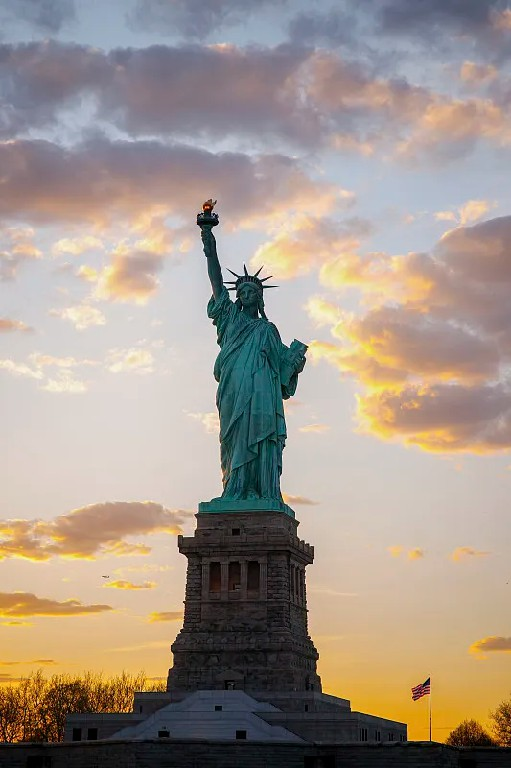SL: (165, 199, 323, 694)
